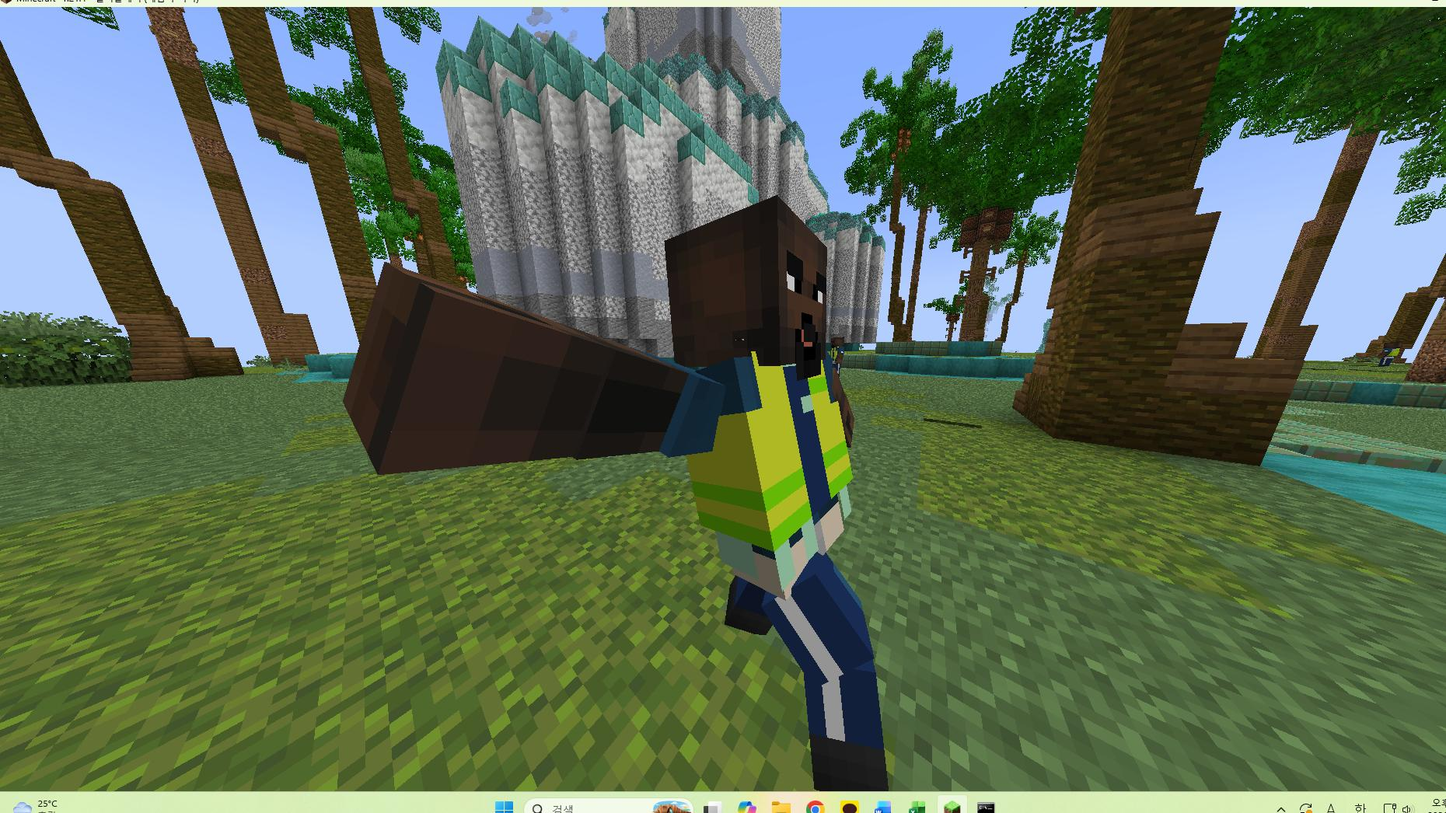Guardian: (345, 199, 888, 790)
